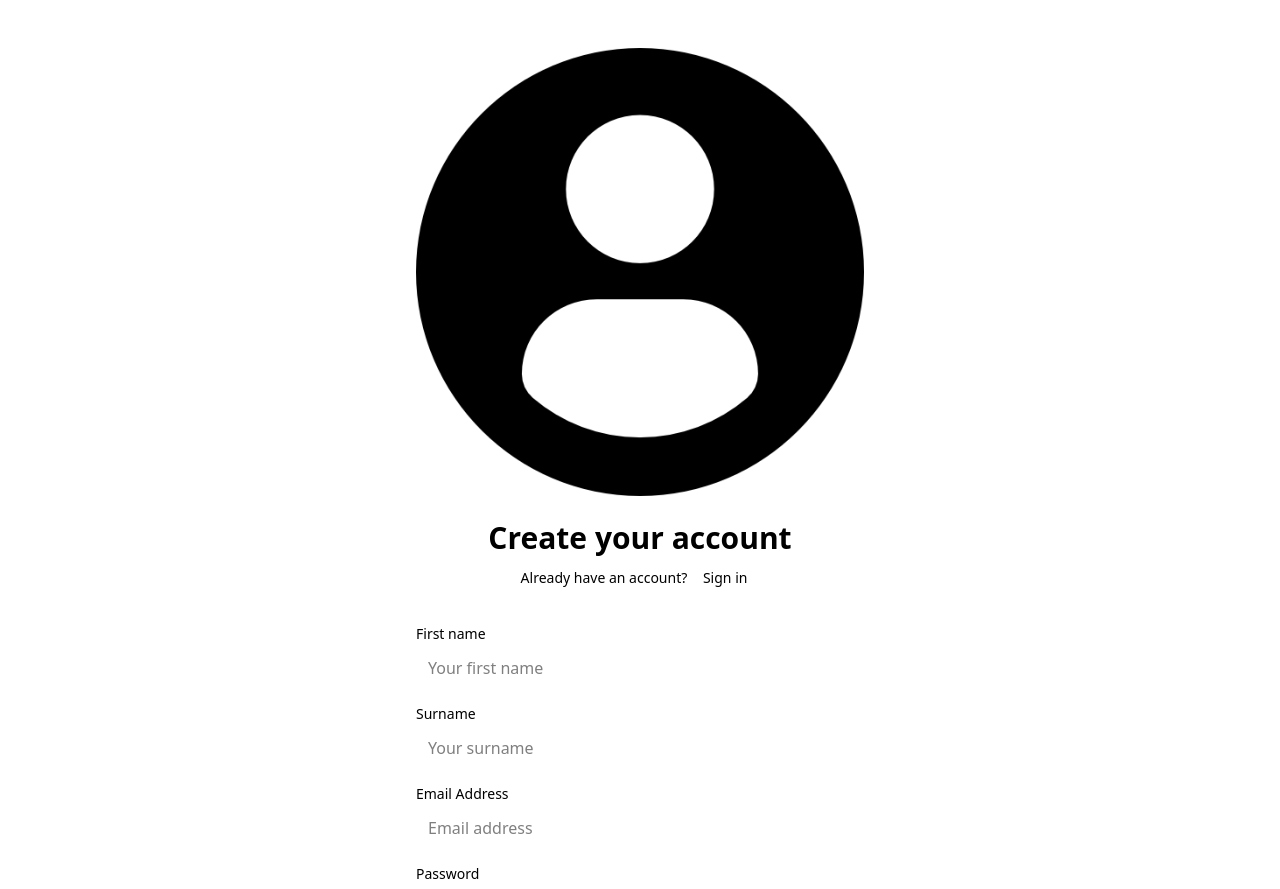
Auth page: sign-up › tells the customer a link was sent when the email was queued
Type "Jo" into the field with id "first_name" at (640, 668), box x1=416 y1=648 x2=864 y2=688
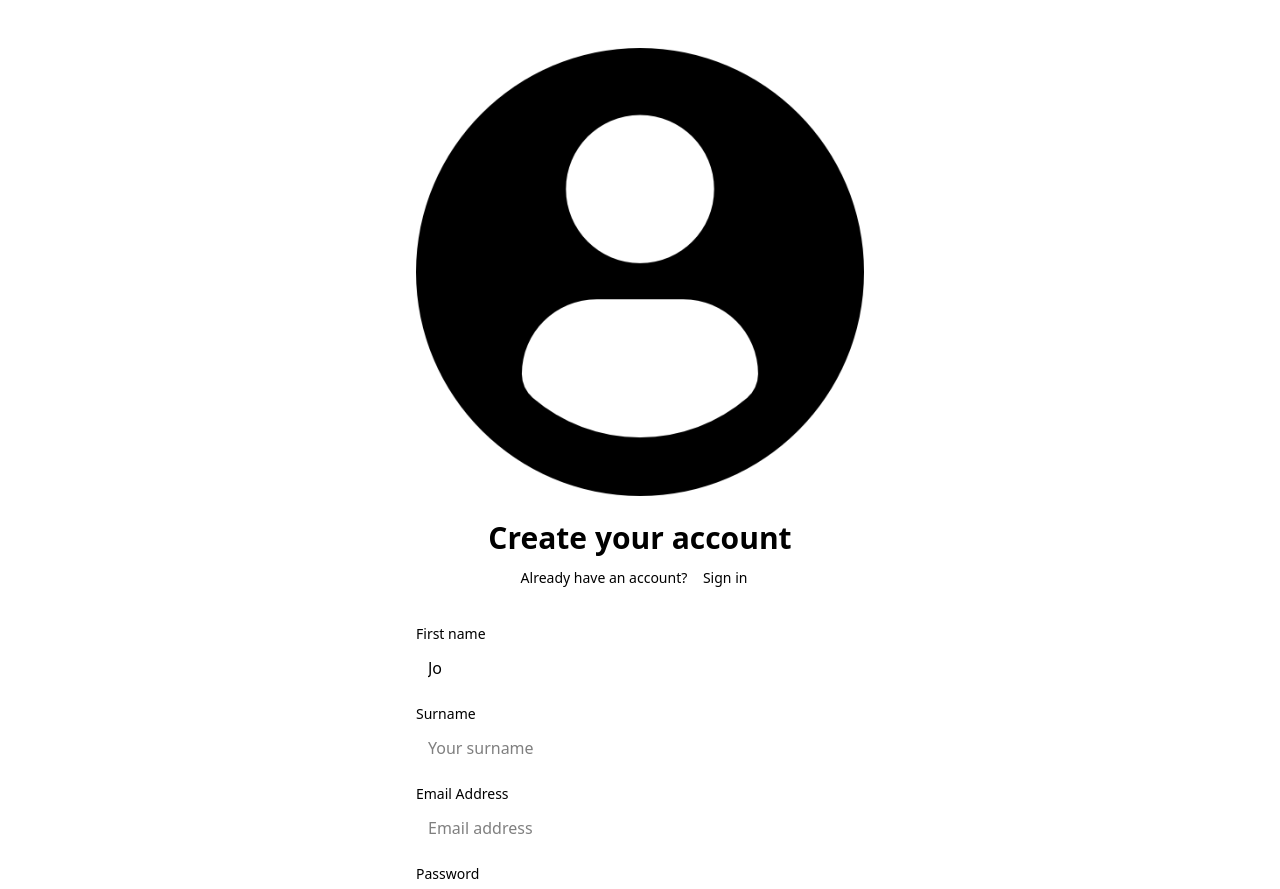
Type "Smith" into the field labelled "Surname" at (640, 748), box x1=416 y1=728 x2=864 y2=768
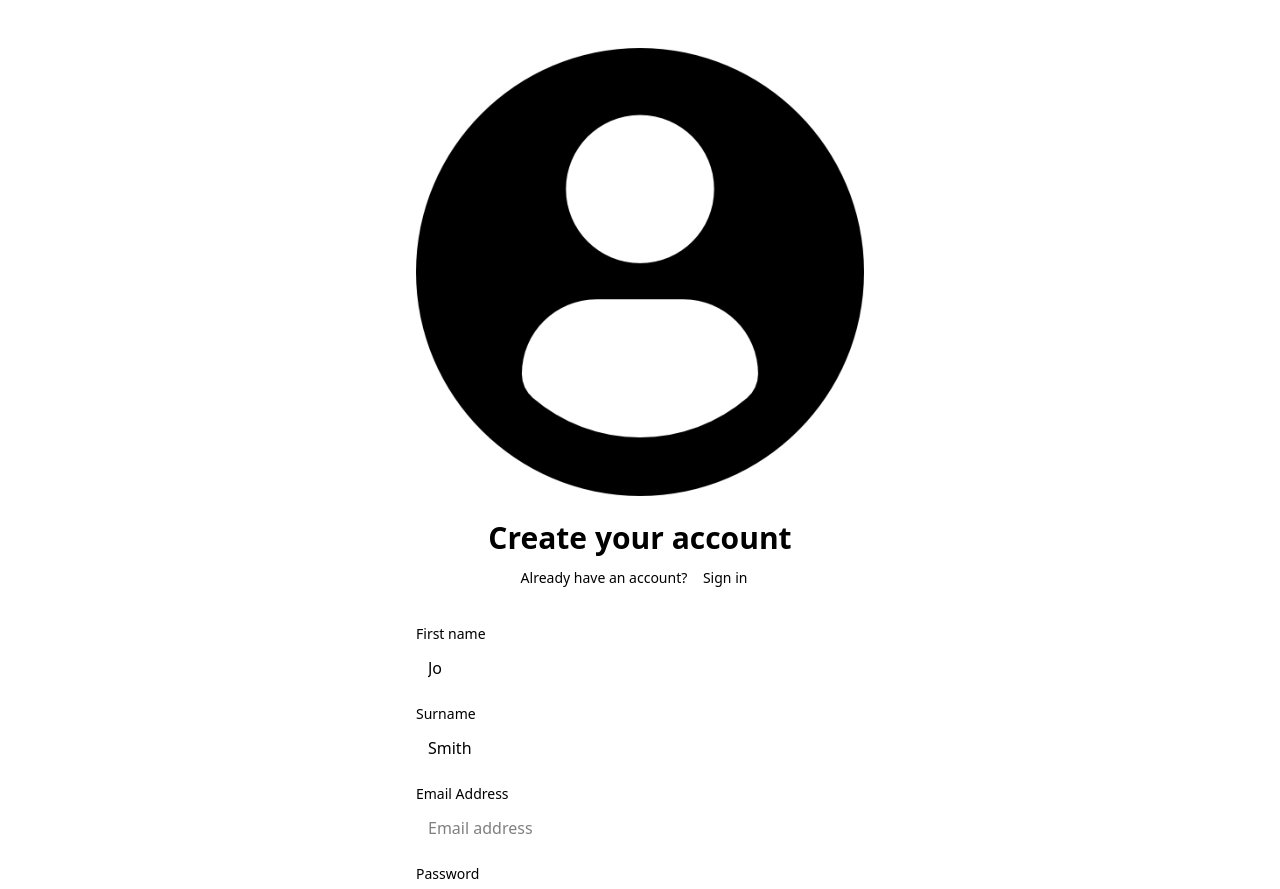
Type "jo.smith@example.com" into the field with id "email" at (640, 828), box x1=416 y1=808 x2=864 y2=848
(page scrolled)
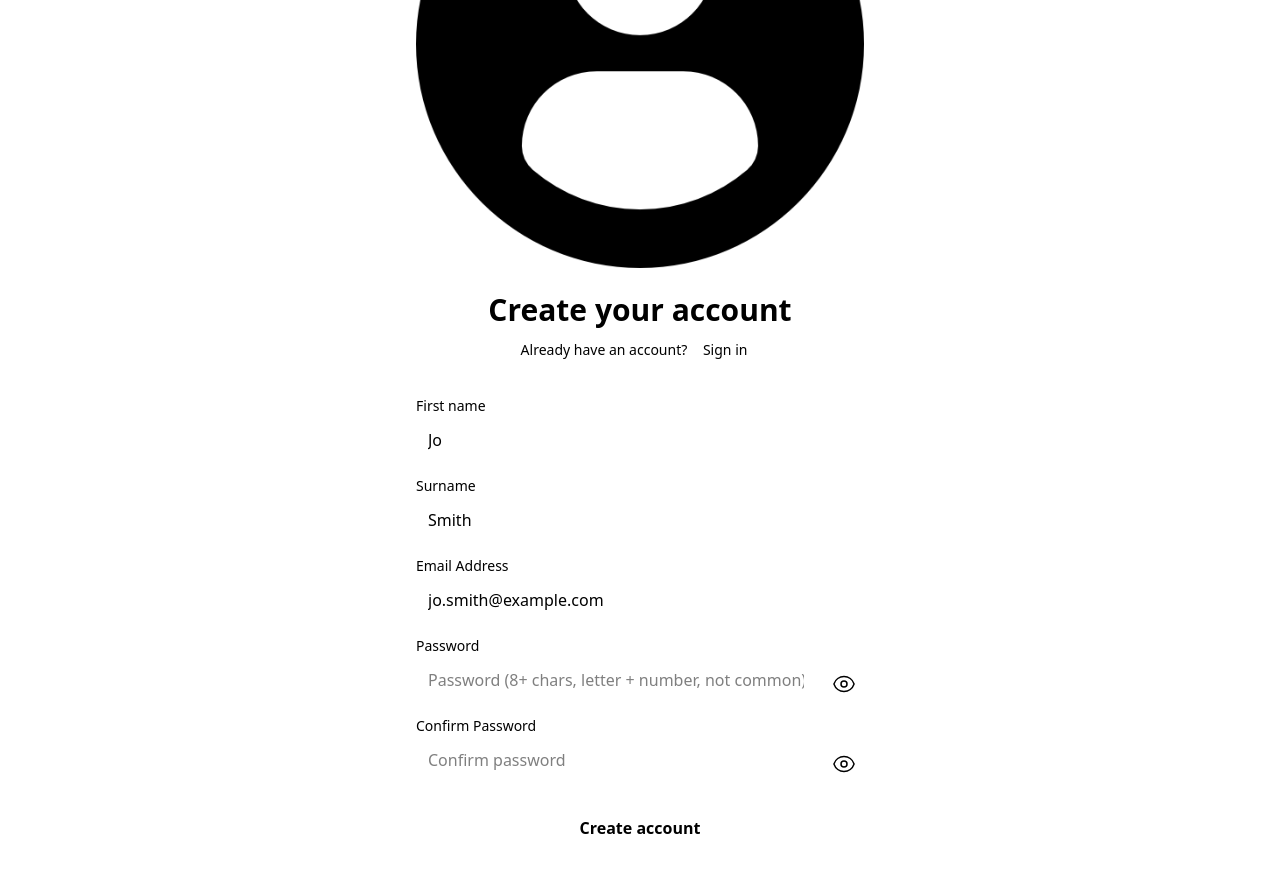
Type "Passw0rd!x" into the password field labelled "Password" at (616, 680), box x1=416 y1=660 x2=816 y2=700
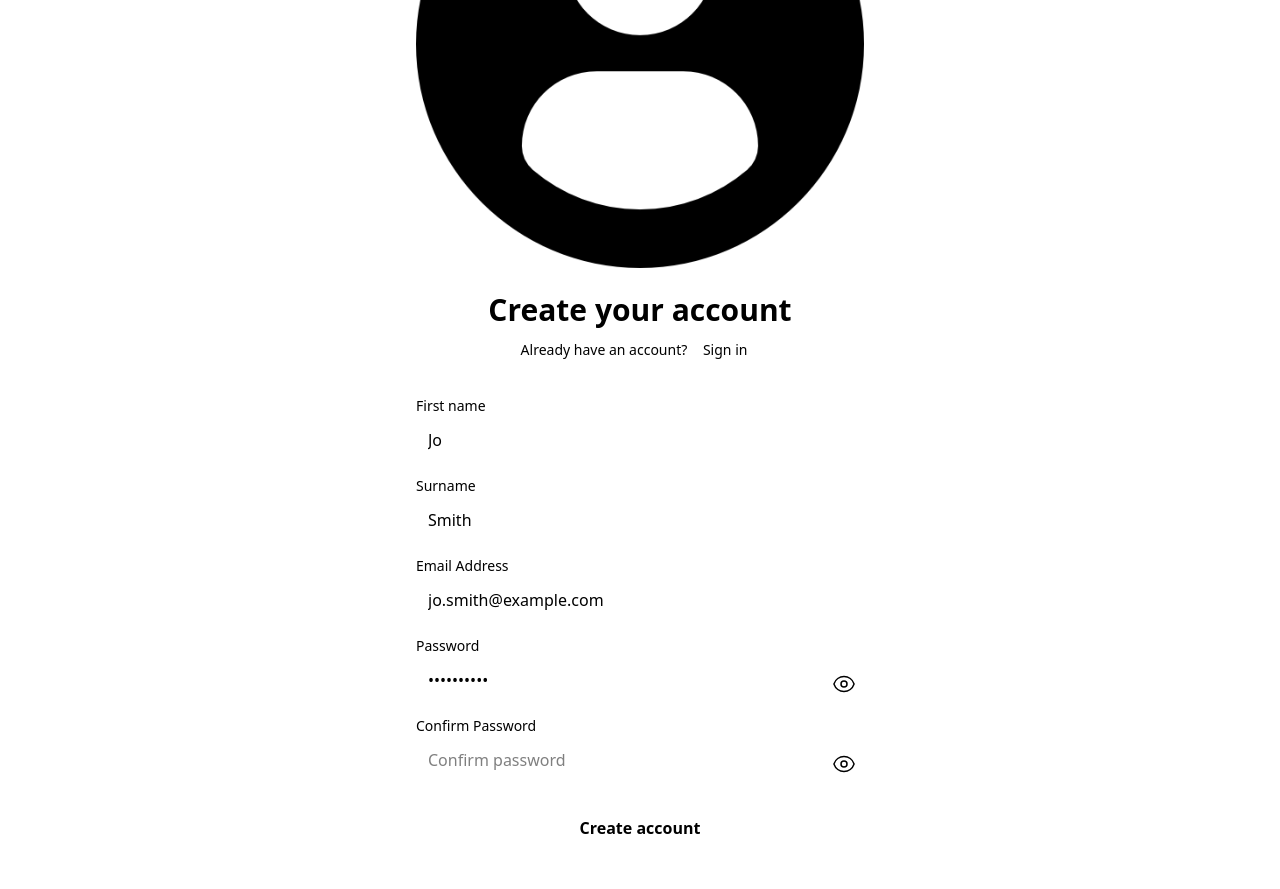
Type "Passw0rd!x" into the password field with id "confirmPassword" at (616, 760), box x1=416 y1=740 x2=816 y2=780
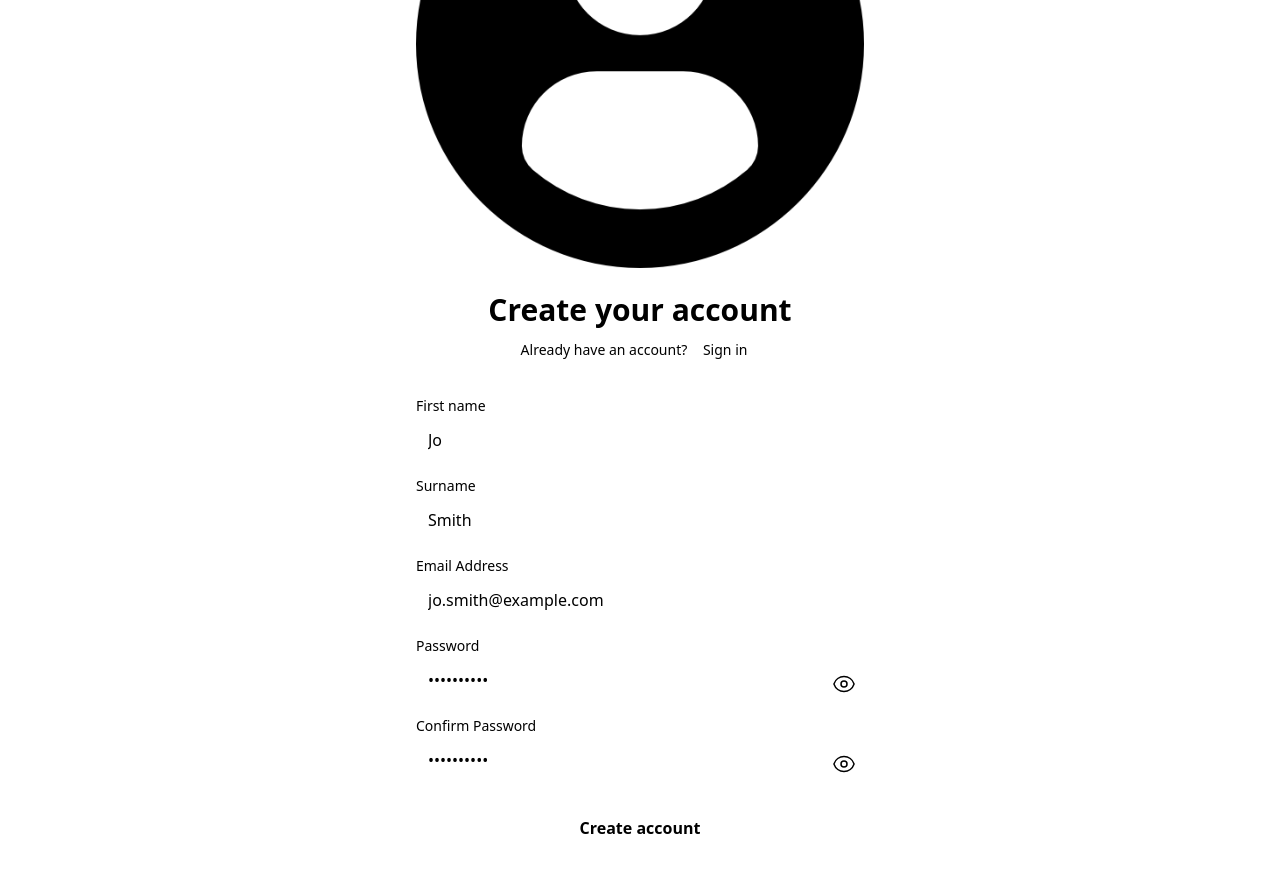
Submit the form, box x1=416 y1=396 x2=864 y2=852
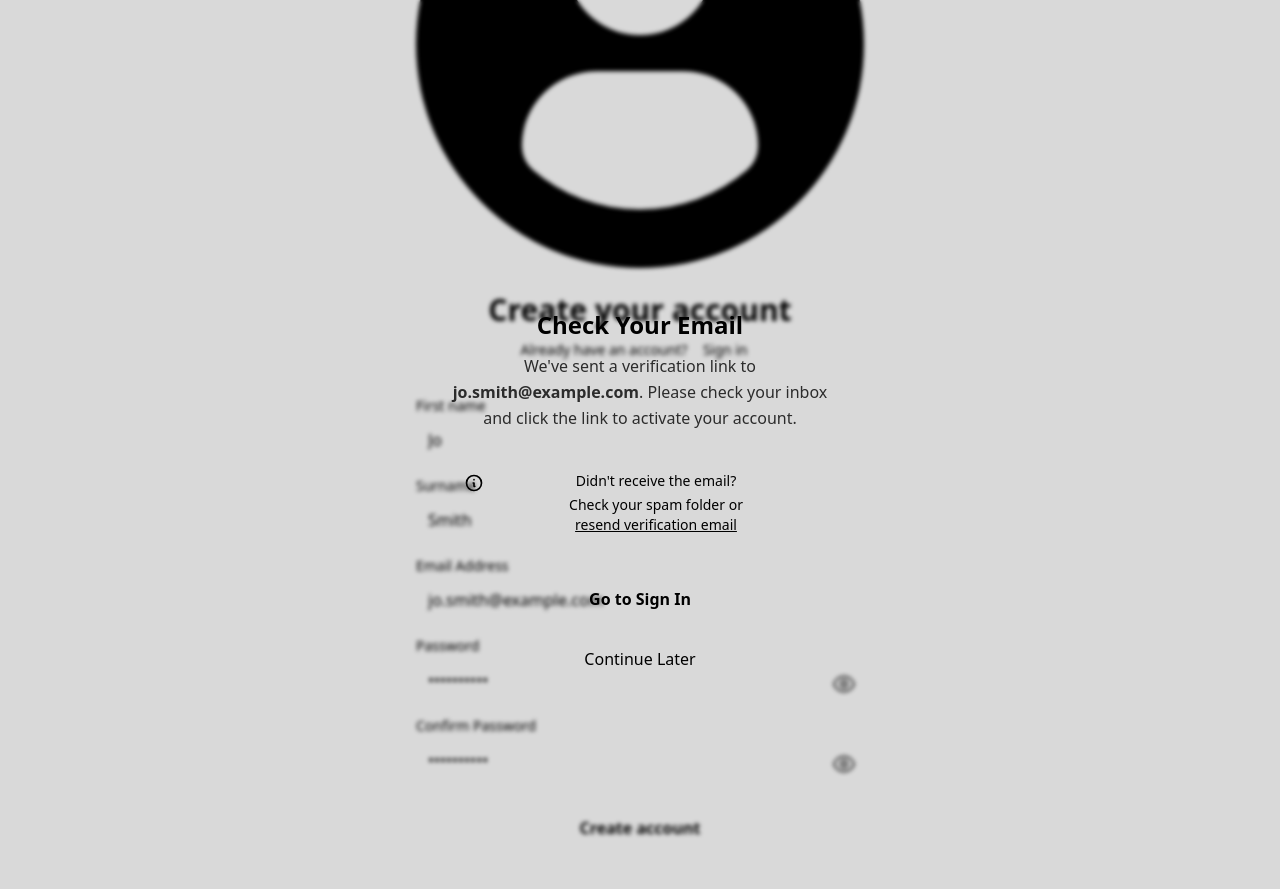
expect the heading "Check Your Email" is shown: met, box x1=537 y1=308 x2=743 y2=341
expect the text "We've sent a verification link to" is shown: met, box x1=524 y1=355 x2=756 y2=377
expect the text "jo.smith@example.com" is shown: met, box x1=453 y1=381 x2=639 y2=403
